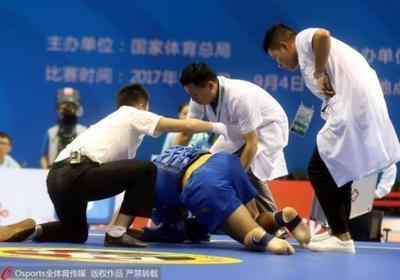Fall-Detected: (133, 136, 314, 254)
